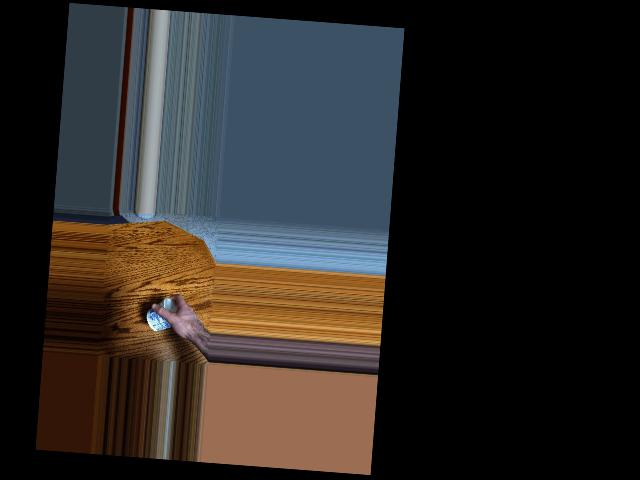cotage: (146, 297, 183, 338)
